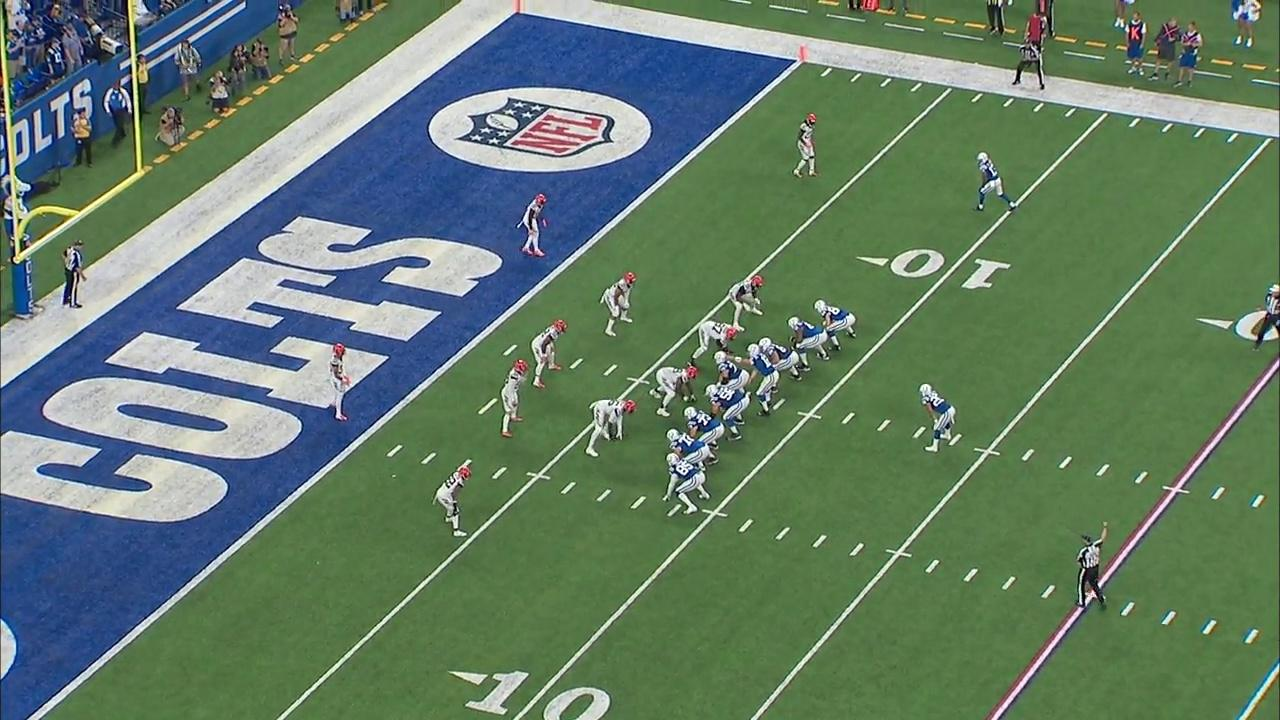defense: (584, 396, 638, 459), (431, 464, 475, 540), (529, 316, 570, 390), (599, 269, 640, 339), (687, 316, 738, 369), (650, 363, 699, 418), (497, 357, 529, 440), (727, 273, 766, 333), (517, 190, 550, 259), (792, 110, 821, 182), (327, 341, 352, 424)
oline: (786, 315, 831, 374), (758, 337, 803, 394), (705, 384, 747, 443), (682, 404, 725, 452), (712, 349, 753, 398)
qb: (725, 342, 780, 420)
ref: (1072, 517, 1114, 613), (55, 236, 90, 313), (1251, 281, 1280, 355), (1009, 37, 1047, 93)
skill: (662, 452, 711, 517), (972, 148, 1019, 215), (916, 380, 957, 455), (812, 300, 860, 353), (665, 426, 711, 473)
